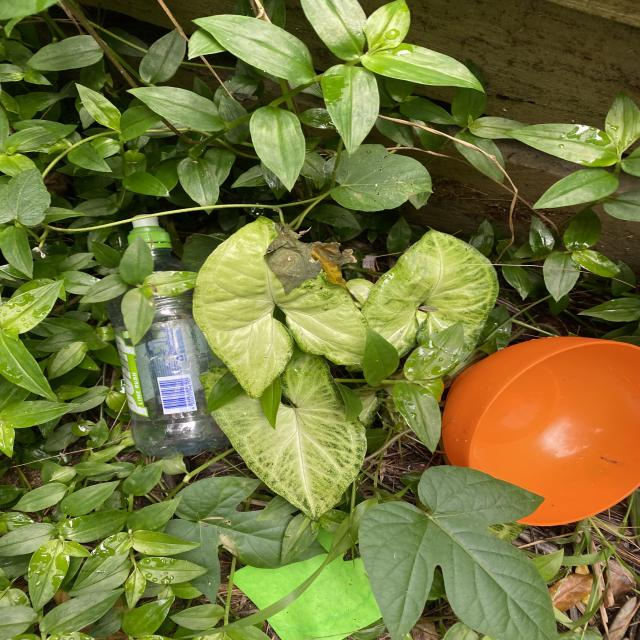bottle: (109, 215, 229, 458)
bowl: (441, 336, 640, 526)
